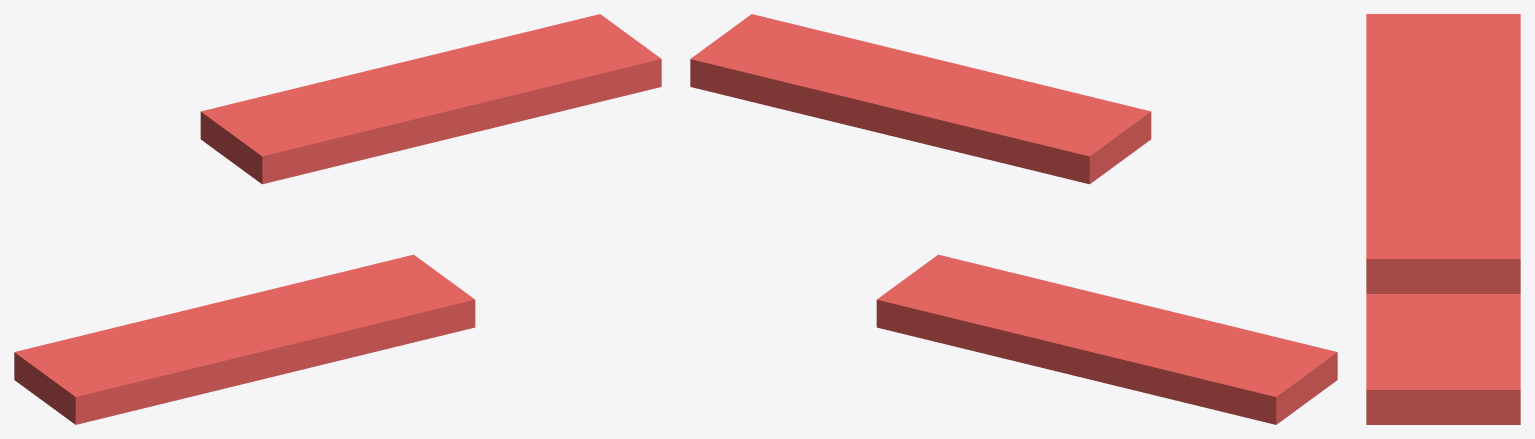
The model's file is shelves.obj.
3 renders of one model, left to right at view 1: azimuth 30°, elevation 25°; view 2: azimuth 150°, elevation 25°; view 3: azimuth 270°, elevation 25°, orthographic. The views are drawn at different scales.
Visible parts, largest first — view 1: shelves; view 2: shelves; view 3: shelves.
Boxes of the visible parts, <box> form: shelves: <box>14,14,661,424</box>; shelves: <box>690,14,1337,424</box>; shelves: <box>1366,14,1520,424</box>.
Bounding box in the file's own units: 22 × 8 × 4.
1 material, 1 textured.
